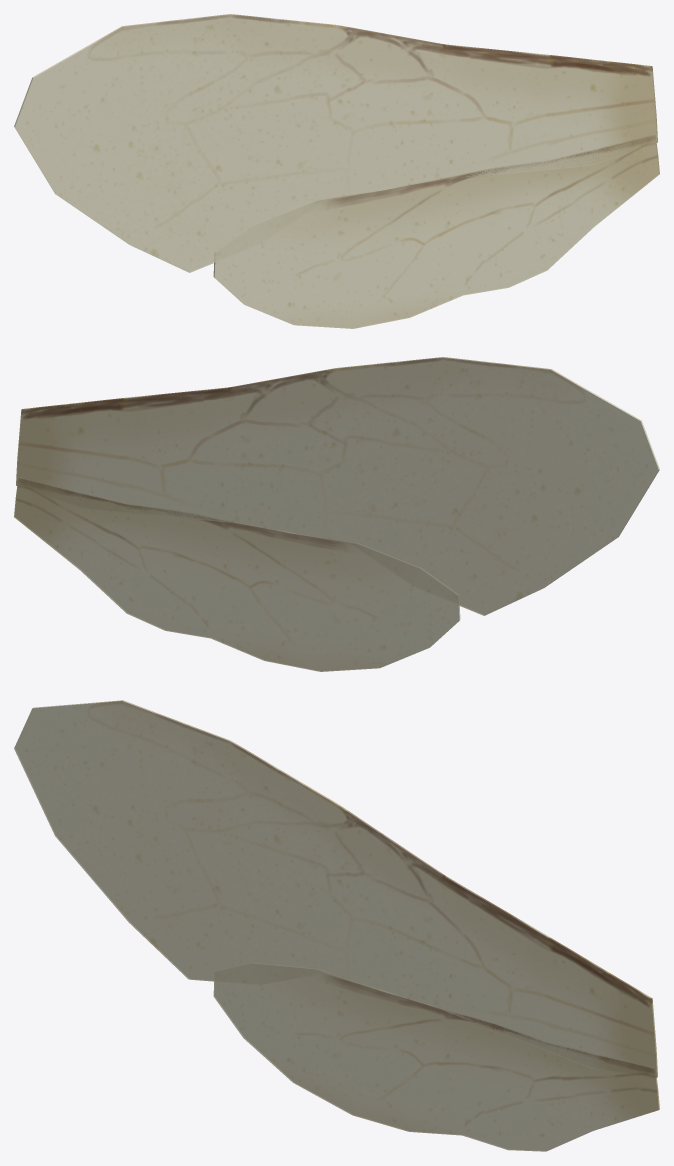
Rendered from Pot_ThunderFeat_R_arm01.fbx.
3 renders of one model, top to bottom at view 1: azimuth 30°, elevation 25°; view 2: azimuth 150°, elevation 25°; view 3: azimuth 330°, elevation 25°, orthographic.
Visible parts, largest first — view 1: Pot_ThunderFeat_Arm; view 2: Pot_ThunderFeat_Arm; view 3: Pot_ThunderFeat_Arm.
Part boxes in pixels (x1,y1,x2,y2): Pot_ThunderFeat_Arm: (14,14,659,328); Pot_ThunderFeat_Arm: (14,357,659,671); Pot_ThunderFeat_Arm: (14,700,659,1151).
Bounding box in the file's own units: 29.34 × 15.69 × 0.0829.
1 material, 1 textured.
